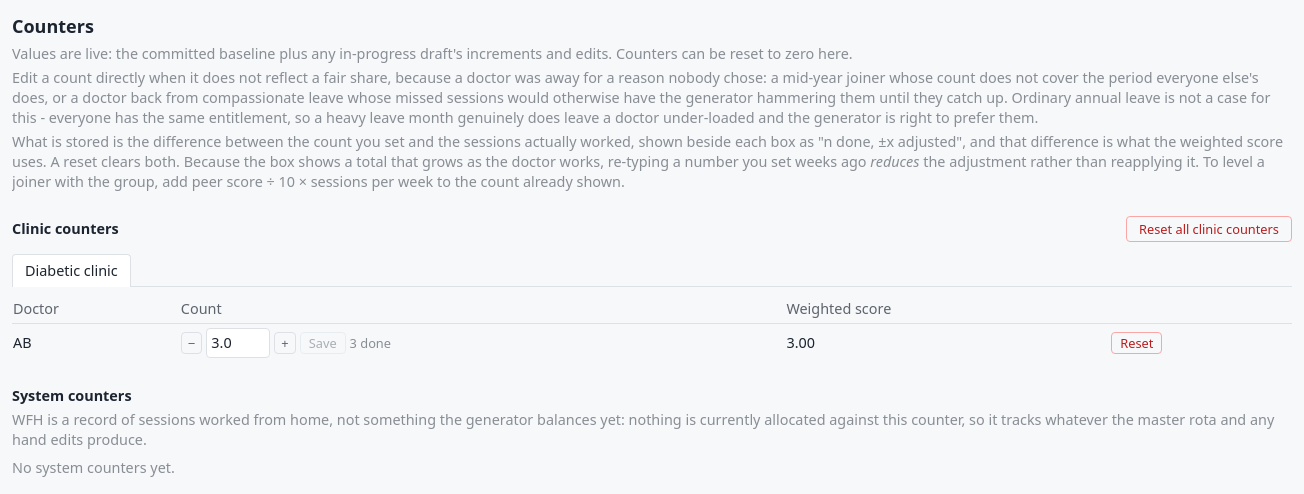
Scenario: CountersPage › adjustments › rejects more than one decimal place before sending it, and keeps Save inert
The width and height of the screenshot is (1304, 494).
Replace the text in the field named "Count for AB" with "3.25" at (238, 343), box top-left (206, 328), bottom-right (270, 358)
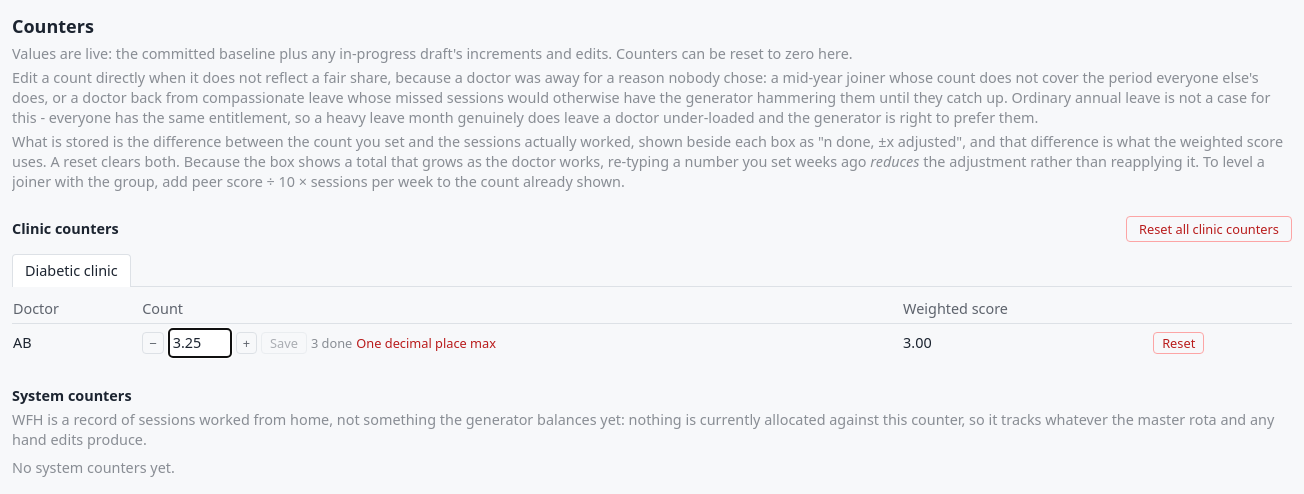
Expected: the button "Save" is disabled, top-left (261, 332), bottom-right (307, 354)
Result: the text "One decimal place max" is shown at top-left (356, 335), bottom-right (496, 351)
